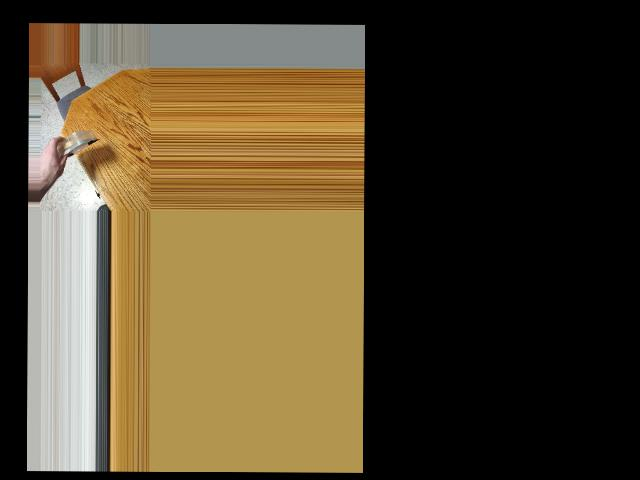cheese: (54, 129, 97, 157)
